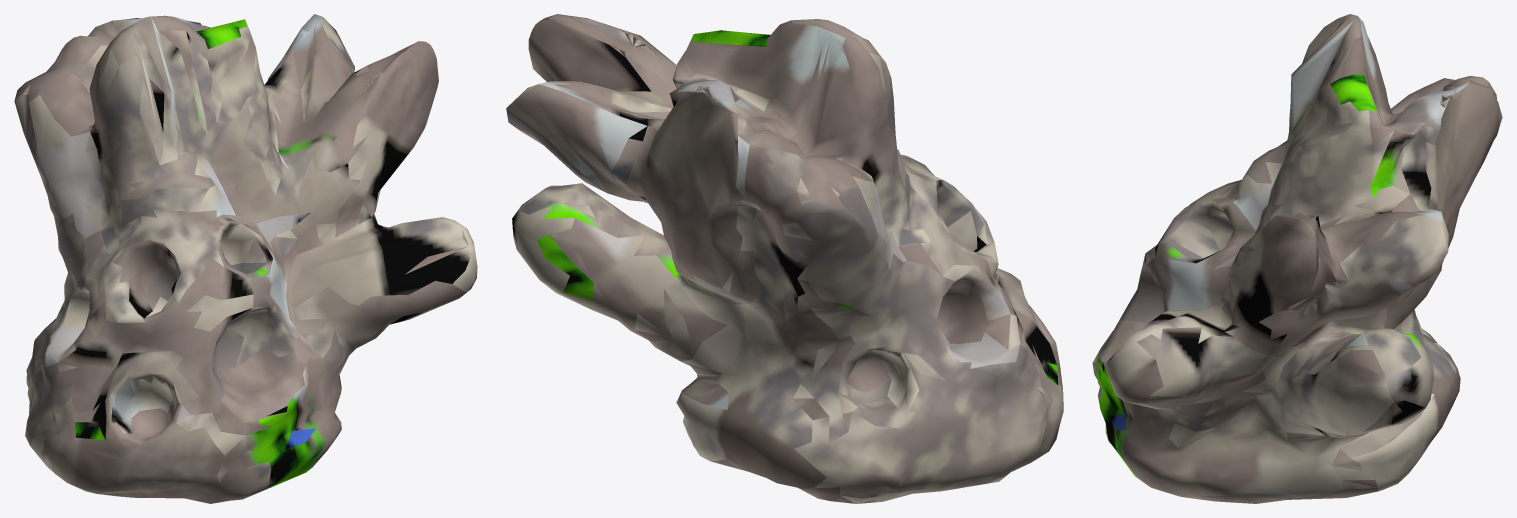
File: Structure-2.fbx
3 views of the same model, side by side, from view 1: azimuth 30°, elevation 25°; view 2: azimuth 150°, elevation 25°; view 3: azimuth 270°, elevation 25° (orthographic). The views are drawn at different scales.
Parts seen in each view (by area): view 1: Structure-2; view 2: Structure-2; view 3: Structure-2.
Part boxes in pixels (bbox=[...]): Structure-2: bbox=[14, 14, 477, 503]; Structure-2: bbox=[506, 14, 1063, 503]; Structure-2: bbox=[1092, 14, 1502, 503].
Bounding box in the file's own units: 6.74 × 6.15 × 5.18.
